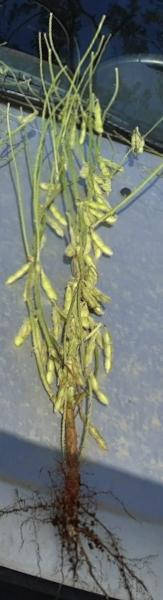soja: (87, 369, 113, 410), (89, 227, 117, 261), (82, 207, 121, 229), (89, 419, 113, 454), (35, 271, 60, 304), (16, 316, 37, 353), (102, 332, 120, 375), (6, 260, 33, 288), (85, 172, 117, 194), (38, 218, 67, 242), (82, 331, 97, 374), (90, 104, 112, 133), (50, 201, 72, 230), (81, 196, 115, 213), (85, 282, 108, 307), (44, 349, 58, 388), (82, 299, 107, 320), (25, 183, 65, 196), (88, 242, 107, 268), (99, 155, 128, 172), (62, 286, 76, 321), (64, 122, 78, 155), (93, 160, 114, 182), (76, 209, 93, 236), (64, 238, 80, 265), (79, 115, 91, 148), (52, 384, 67, 410), (131, 135, 145, 160), (80, 163, 92, 181)
